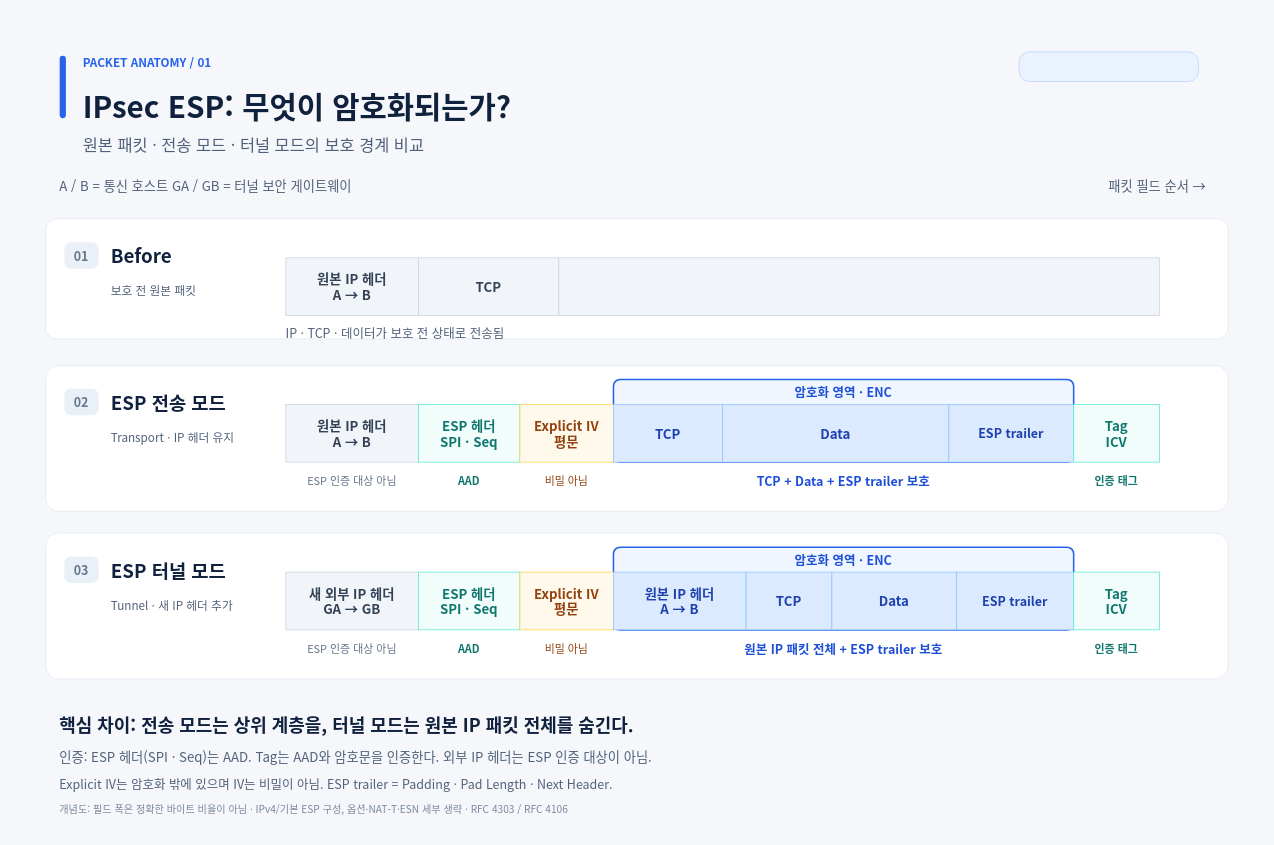
The diagram is 1274 pixels wide and 845 high, and some of its shapes have lost their labels. The shapes that lost their labels are listed below. From the top down, each one's centre as x and y in pixels, then its label:
At (x=1108, y=66): "AES-GCM 기준".
At (x=858, y=286): "Data · 애플리케이션 데이터".
